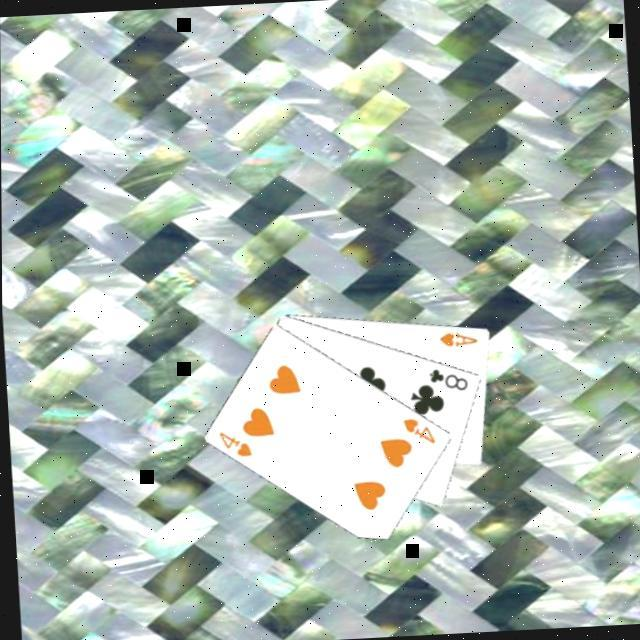4H: (400, 414, 440, 448), (216, 428, 256, 462)
8C: (426, 364, 472, 396)
AH: (436, 329, 482, 351)
